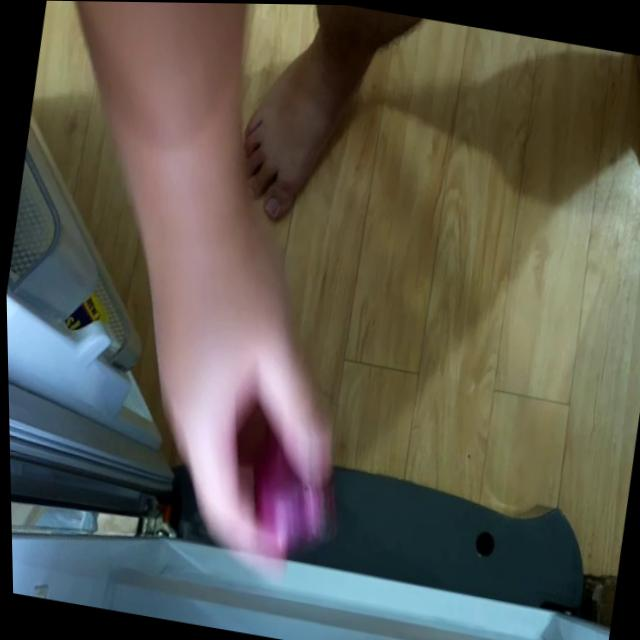onion: (246, 463, 331, 546)
